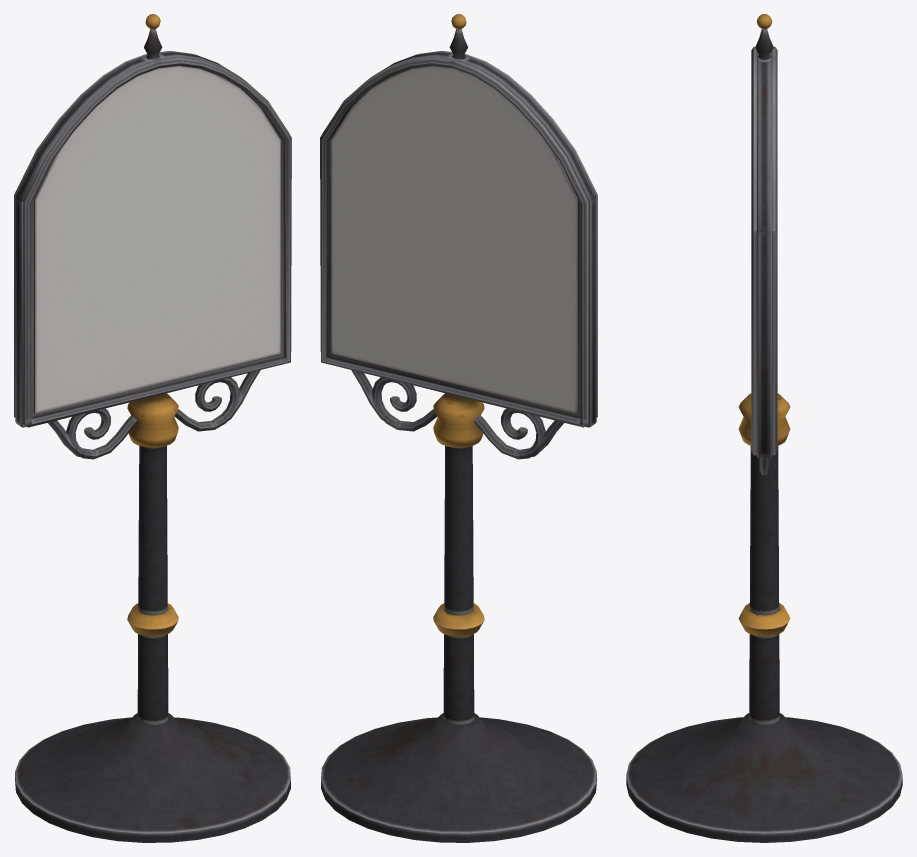
File: FloorStand.fbx
3 views of the same model, side by side, from view 1: azimuth 30°, elevation 25°; view 2: azimuth 150°, elevation 25°; view 3: azimuth 270°, elevation 25° (orthographic).
Visible parts, largest first — view 1: FloorStand_Field, FloorStand_Main; view 2: FloorStand_Field, FloorStand_Main; view 3: FloorStand_Main.
Boxes of the visible parts, <box> form: FloorStand_Field: <box>34,66,280,413</box>; FloorStand_Main: <box>14,14,291,842</box>; FloorStand_Field: <box>331,66,577,413</box>; FloorStand_Main: <box>320,14,597,842</box>; FloorStand_Main: <box>626,14,902,842</box>.
Size of the model in its own units: 180 by 492 by 160.
